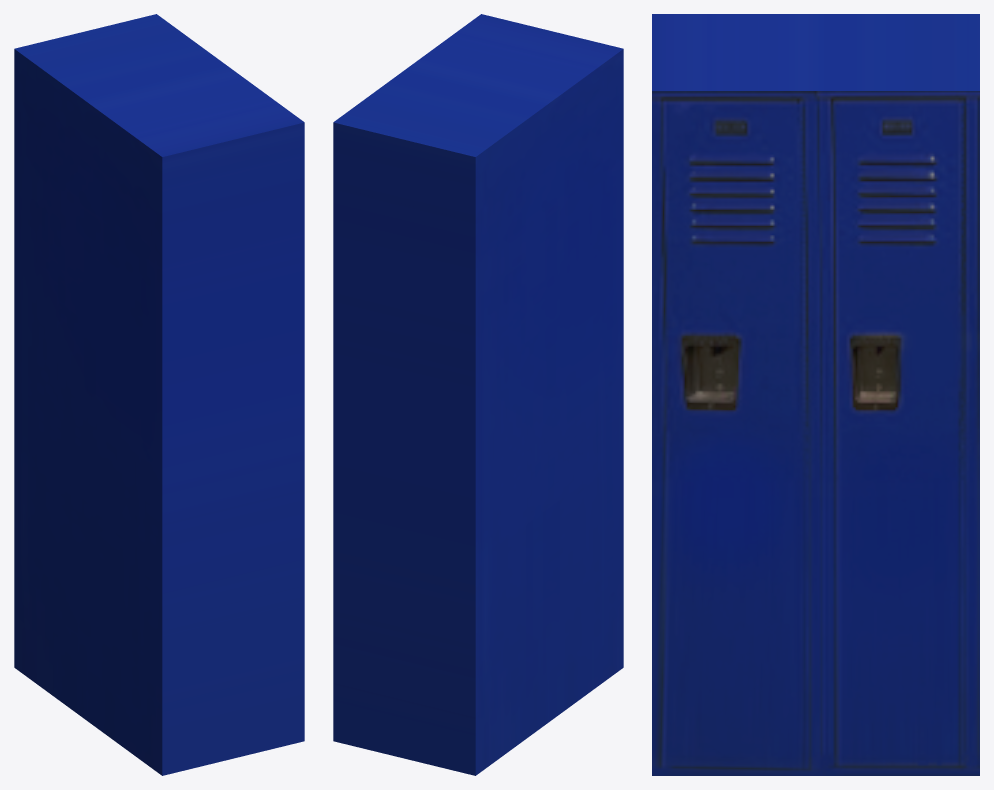
File: Lockers.fbx
3 views of the same model, side by side, from view 1: azimuth 30°, elevation 25°; view 2: azimuth 150°, elevation 25°; view 3: azimuth 270°, elevation 25° (orthographic). The views are drawn at different scales.
Parts seen in each view (by area): view 1: Locker; view 2: Locker; view 3: Locker.
Boxes of the visible parts, box(x1,y1,x2,y2) form: Locker: box(14, 14, 304, 775); Locker: box(333, 14, 623, 775); Locker: box(652, 14, 979, 775).
Bounding box in the file's own units: 2 × 8.3 × 3.6.
Materials: 1 (1 with a texture image).
